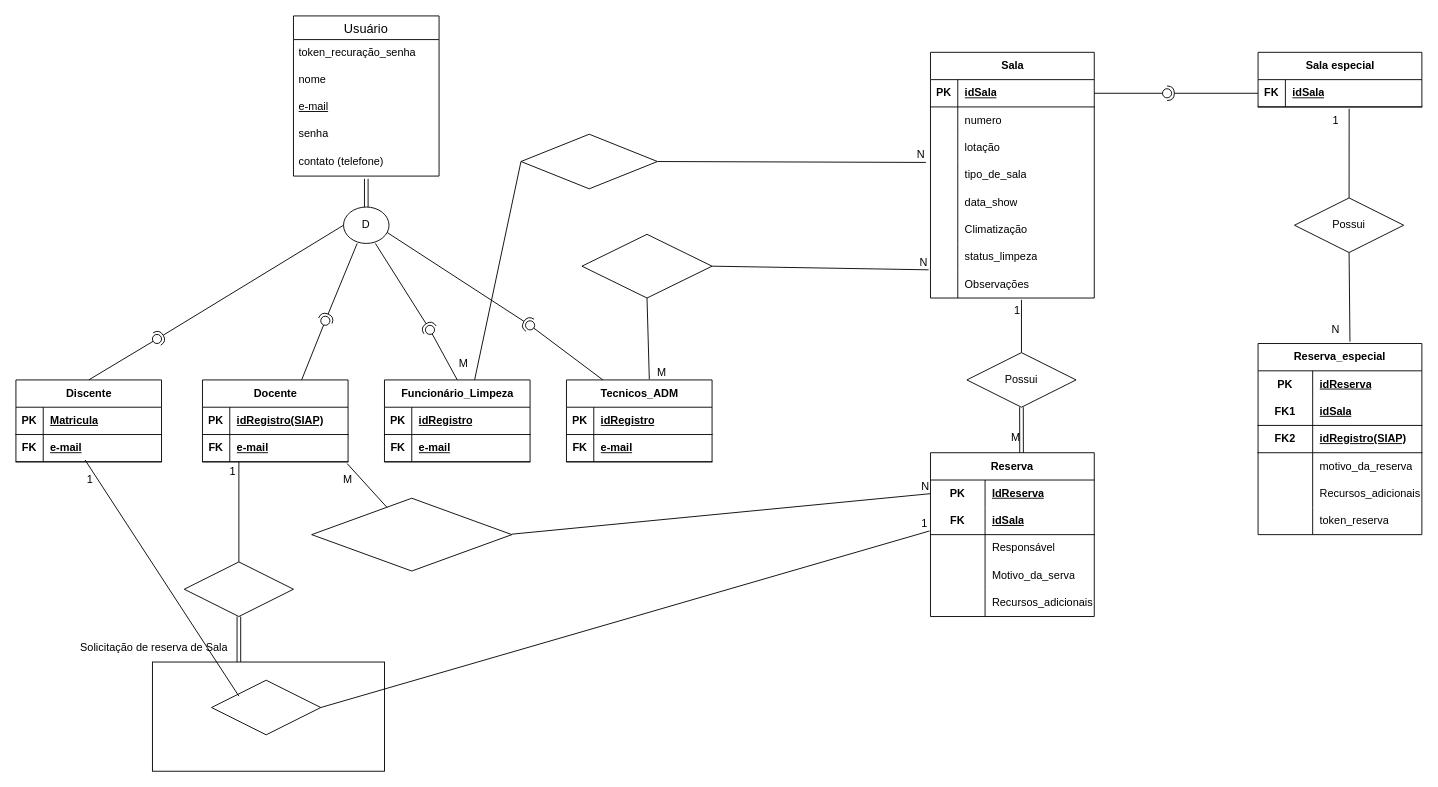
Some shapes in this 1438 by 787 pixel diagram are drawn without their labels. Each missing label, with the centre of its shape:
"Alocar turmas do semestre" goes at pixel 646 265.
"Autoriza" goes at pixel 238 589.
"Limpeza/manutenção" goes at pixel 588 161.
"Solicita" goes at pixel 266 707.
"solicita as chaves/ ou nova reserva" goes at pixel 411 534.
